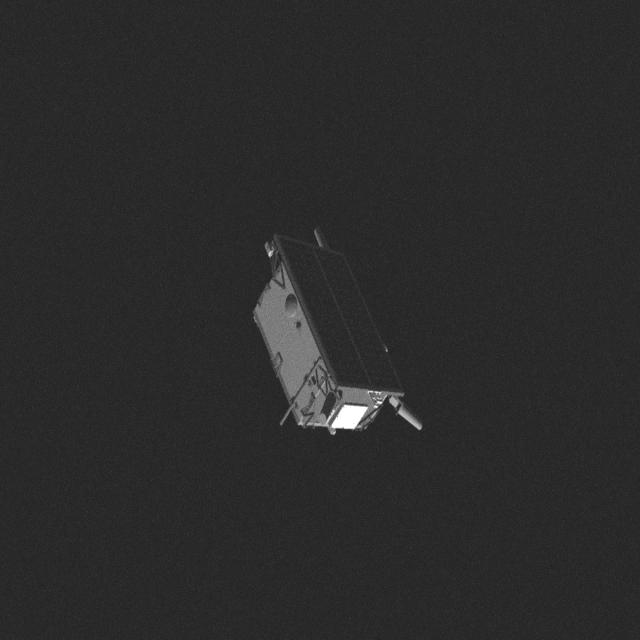medium_debris: (248, 216, 428, 454)
